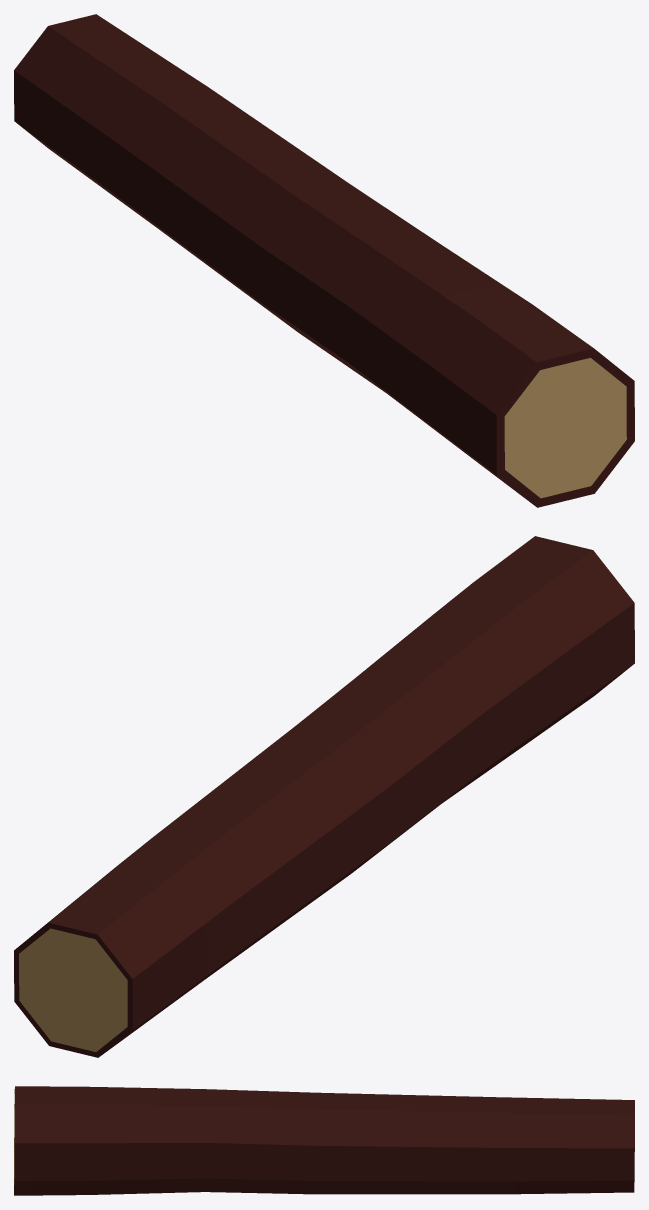
File: SM_WoodLog_04.fbx
The picture shows the model from 3 angles, top to bottom: view 1: azimuth 30°, elevation 25°; view 2: azimuth 150°, elevation 25°; view 3: azimuth 270°, elevation 25°; orthographic projection. The views are drawn at different scales.
Visible parts, largest first — view 1: Wood Log v4; view 2: Wood Log v4; view 3: Wood Log v4.
Boxes of the visible parts, x1=… form: Wood Log v4: x1=14, y1=14, x2=634, y2=507; Wood Log v4: x1=14, y1=536, x2=634, y2=1057; Wood Log v4: x1=14, y1=1086, x2=634, y2=1195.
Size of the model in its own units: 21.48 by 21.52 by 132.
